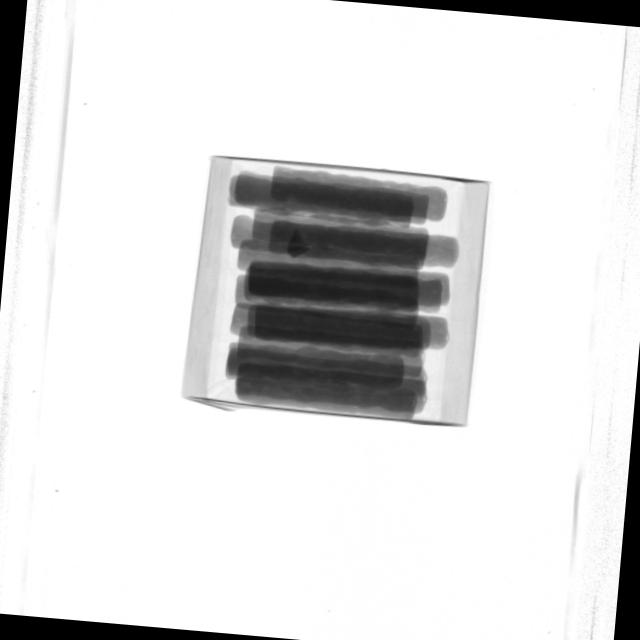ym: (286, 229, 311, 261)
